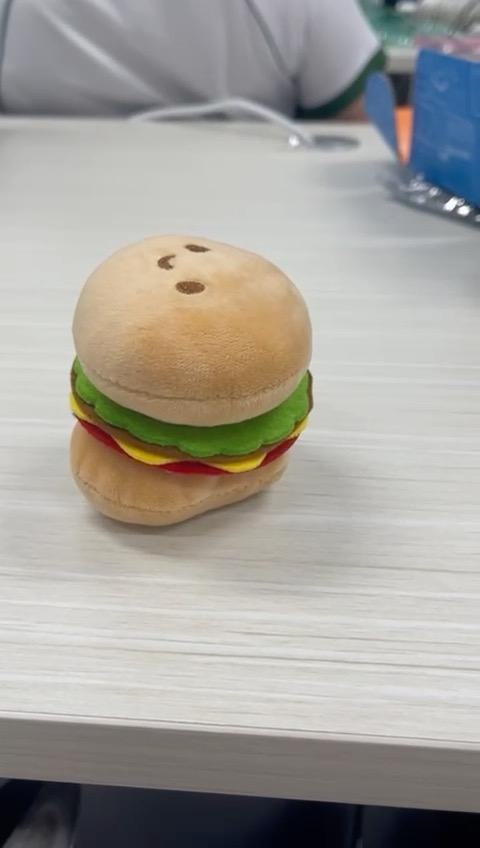hamburger: (69, 234, 316, 529)
